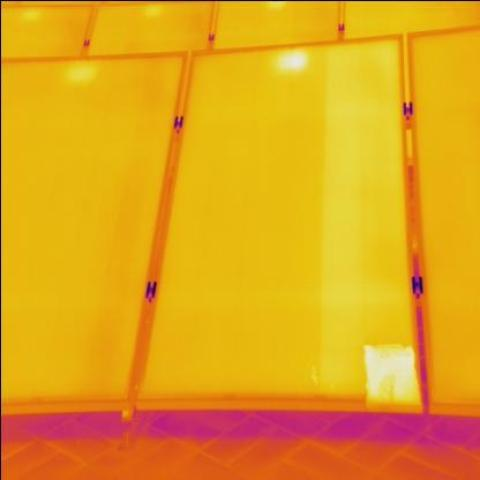fault: (362, 343, 416, 400), (280, 51, 310, 70)
